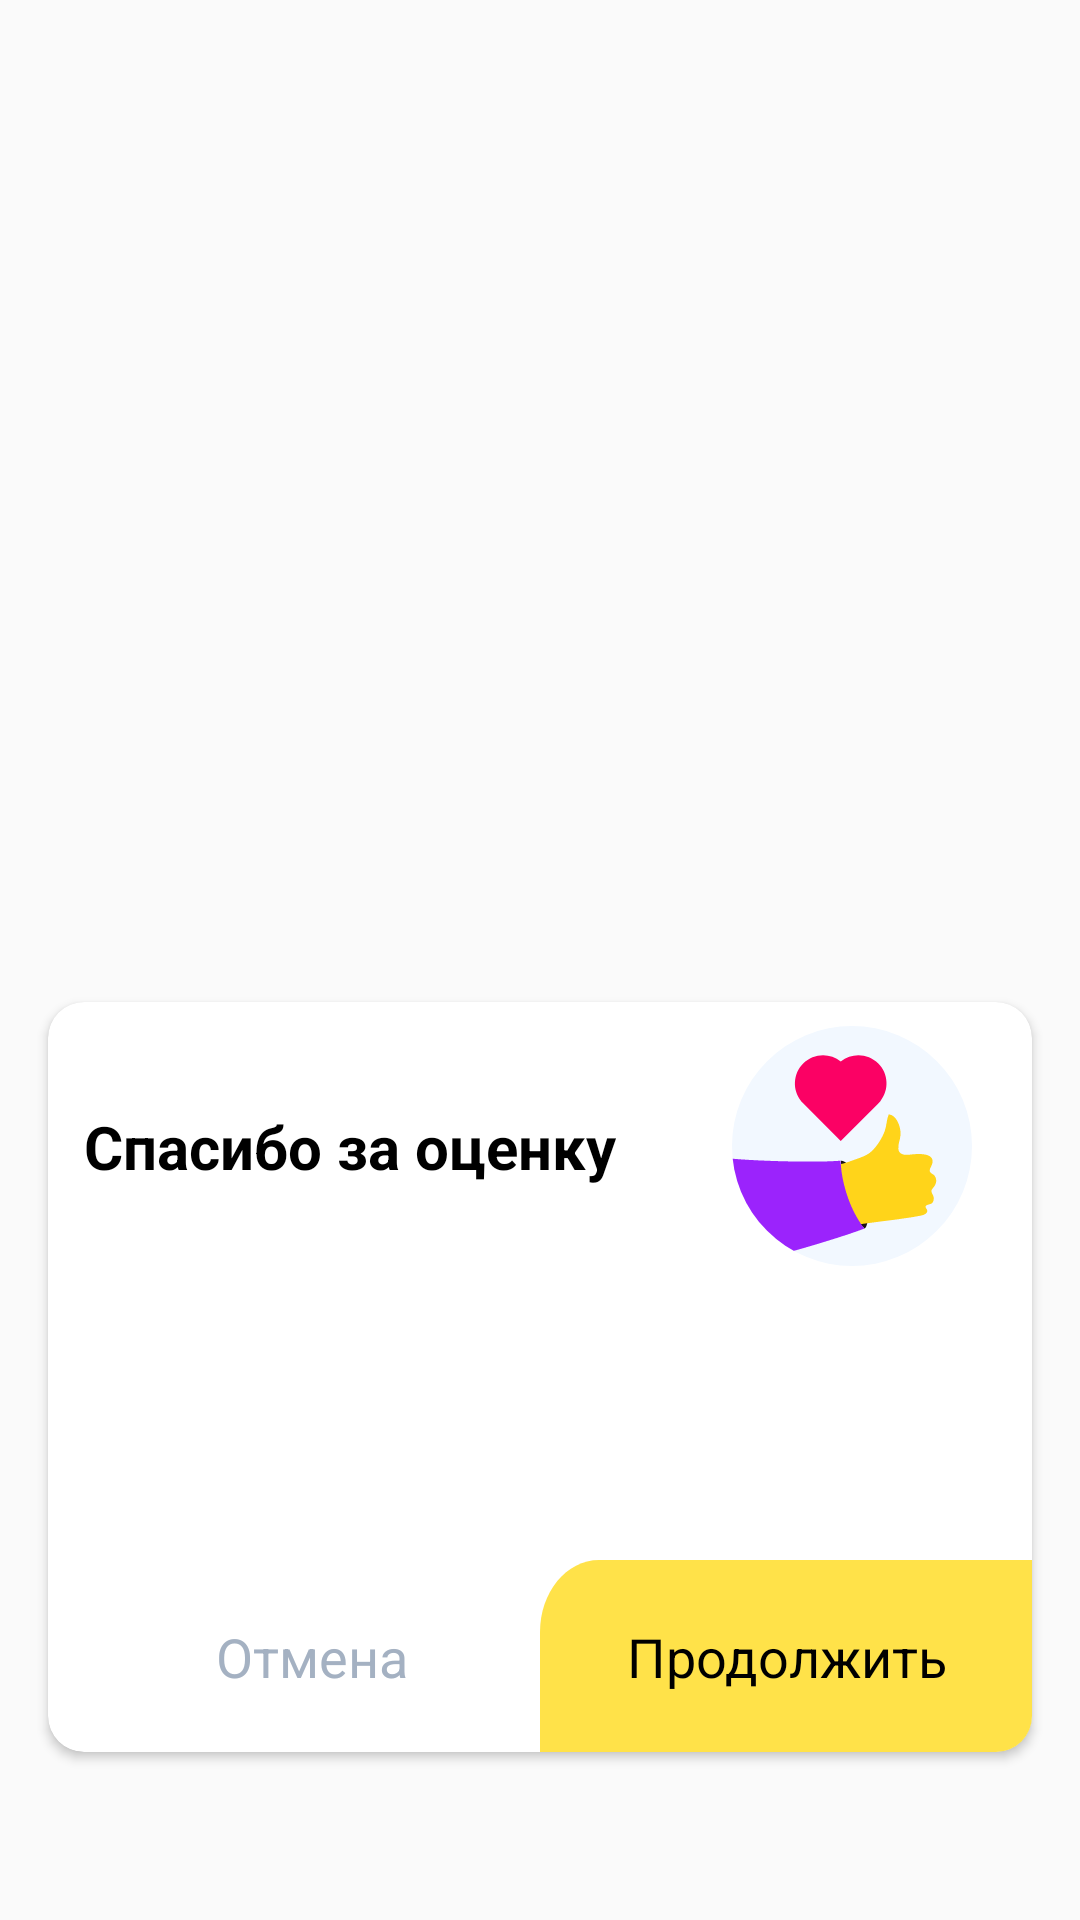

Screen size 1080 × 1920. Icon name, then its center in pixels as (x,y):
review: (852,1146)
